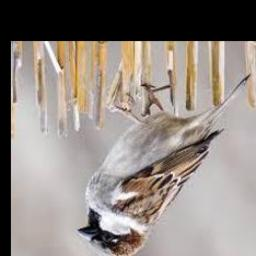Sparrow: (77, 75, 252, 256)
